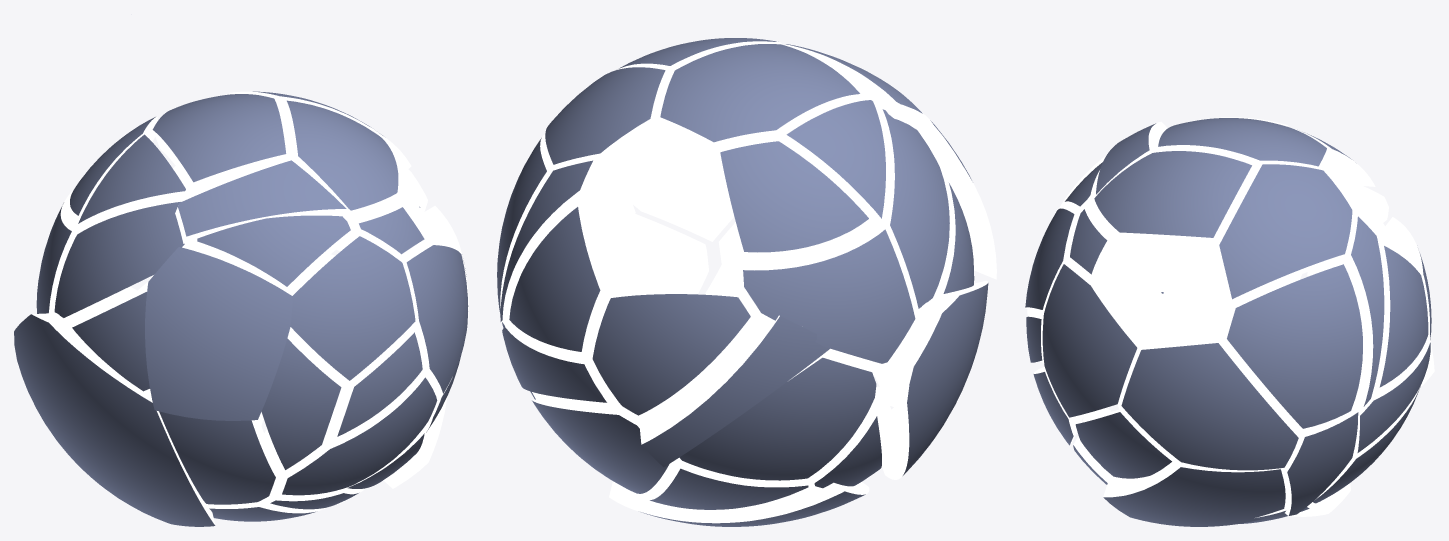
The model's file is zero-point-fracture.glb.
3 views of the same model, side by side, from view 1: azimuth 30°, elevation 25°; view 2: azimuth 150°, elevation 25°; view 3: azimuth 270°, elevation 25° (orthographic). The views are drawn at different scales.
Visible parts, largest first — view 1: Sphere_fracturepart48, Sphere_fracturepart4, Sphere_fracturepart5, Sphere_fracturepart27, Sphere_fracturepart32, Sphere_fracturepart37, Sphere_fracturepart10, Sphere_fracturepart21, Sphere_fracturepart49, Sphere_fracturepart14, Sphere_fracturepart20, Sphere_fracturepart36 (+15 smaller); view 2: Sphere_fracturepart40, Sphere_fracturepart27, Sphere_fracturepart47, Sphere_fracturepart26, Sphere_fracturepart4, Sphere_fracturepart17, Sphere_fracturepart43, Sphere_fracturepart28, Sphere_fracturepart32, Sphere_fracturepart35, Sphere_fracturepart20, Sphere_fracturepart50 (+17 smaller); view 3: Sphere_fracturepart39, Sphere_fracturepart29, Sphere_fracturepart35, Sphere_fracturepart4, Sphere_fracturepart20, Sphere_fracturepart37, Sphere_fracturepart24, Sphere_fracturepart27, Sphere_fracturepart28, Sphere_fracturepart25, Sphere_fracturepart33, Sphere_fracturepart18 (+15 smaller).
Part boxes in pixels (x1,y1,x2,y2): Sphere_fracturepart48: (145, 247, 292, 420); Sphere_fracturepart4: (14, 313, 215, 526); Sphere_fracturepart5: (290, 236, 415, 380); Sphere_fracturepart27: (152, 94, 286, 189); Sphere_fracturepart32: (54, 202, 184, 317); Sphere_fracturepart37: (286, 100, 398, 210); Sphere_fracturepart10: (282, 375, 437, 495); Sphere_fracturepart21: (159, 411, 277, 504); Sphere_fracturepart49: (175, 160, 346, 248); Sphere_fracturepart14: (194, 215, 350, 292); Sphere_fracturepart20: (403, 245, 467, 393); Sphere_fracturepart36: (261, 329, 343, 469); Sphere_fracturepart40: (741, 220, 915, 363); Sphere_fracturepart27: (660, 44, 859, 154); Sphere_fracturepart47: (679, 356, 876, 480); Sphere_fracturepart26: (592, 294, 750, 415); Sphere_fracturepart4: (879, 281, 988, 479); Sphere_fracturepart17: (639, 312, 829, 467); Sphere_fracturepart43: (720, 141, 868, 252); Sphere_fracturepart28: (509, 207, 617, 351); Sphere_fracturepart32: (875, 109, 949, 308); Sphere_fracturepart35: (545, 67, 670, 168); Sphere_fracturepart20: (621, 122, 734, 241); Sphere_fracturepart50: (785, 100, 885, 218); Sphere_fracturepart39: (1121, 342, 1298, 470); Sphere_fracturepart29: (1227, 264, 1362, 428); Sphere_fracturepart35: (1219, 164, 1352, 303); Sphere_fracturepart4: (1117, 207, 1300, 409); Sphere_fracturepart20: (1042, 264, 1144, 417); Sphere_fracturepart37: (1094, 151, 1251, 238); Sphere_fracturepart24: (1103, 454, 1285, 526); Sphere_fracturepart27: (1158, 118, 1326, 175); Sphere_fracturepart28: (1375, 246, 1428, 387); Sphere_fracturepart25: (1280, 407, 1358, 515); Sphere_fracturepart33: (1331, 216, 1384, 408); Sphere_fracturepart18: (1075, 408, 1172, 478).
Bounding box in the file's own units: 1.68 × 2 × 1.61.
